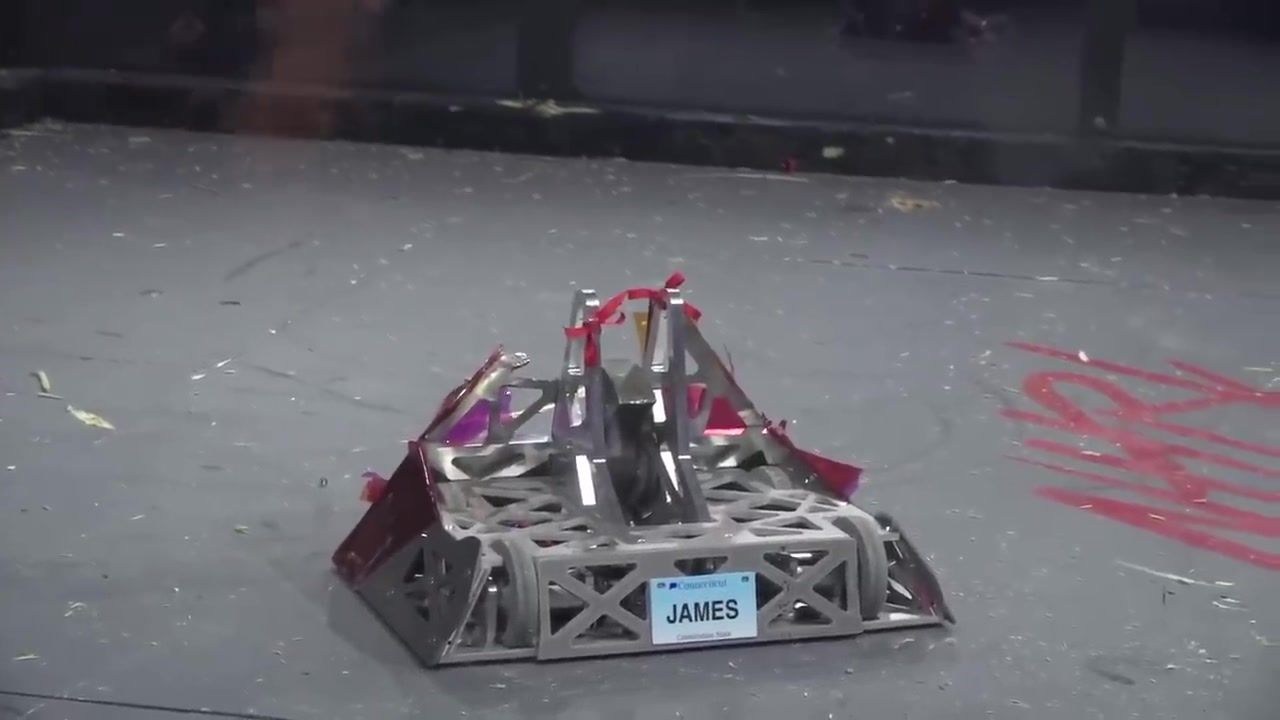combatbot: (330, 290, 954, 670)
